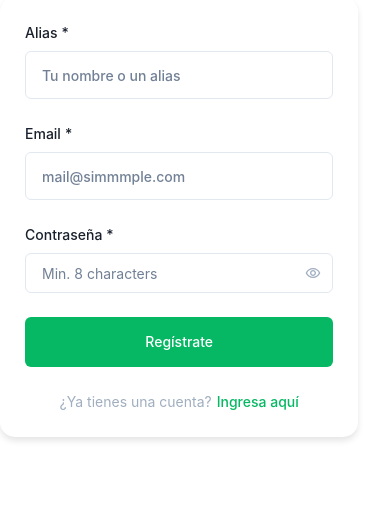
it: FormR Component › debería mostrar un mensaje de éxito al registrarse correctamente
The width and height of the screenshot is (376, 531).
Simular ingreso de valores en los campos
Type "John" into the field with placeholder "Tu nombre o un alias" at (179, 75), box [25,51,333,99]
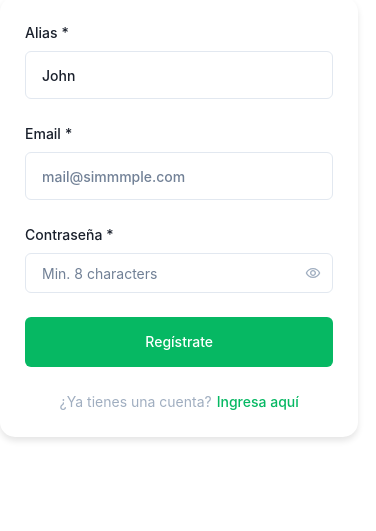
Type "test@example.com" into the field with placeholder "mail@simmmple.com" at (179, 176), box [25,152,333,200]
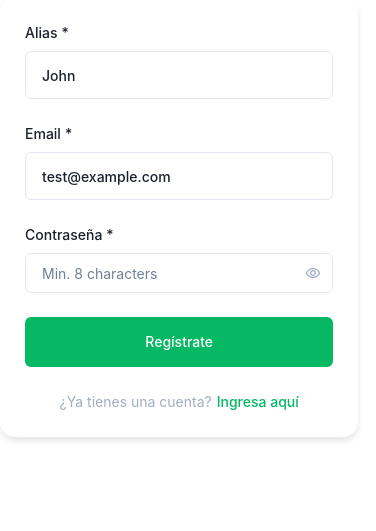
Type "password123" into the password field with placeholder "Min. 8 characters" at (179, 273), box [25,253,333,293]
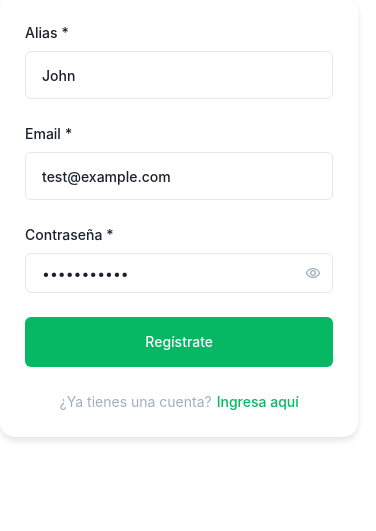
Simular clic en el botón de registro
Click the button "Regístrate" at (179, 342), box [25,317,333,367]
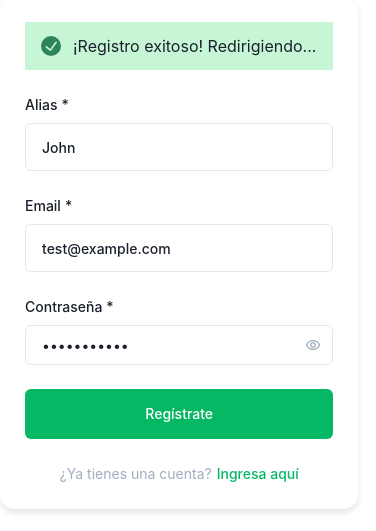
Check: the text "¡Registro exitoso! Redirigiendo..." is shown, box [25,22,333,70]
